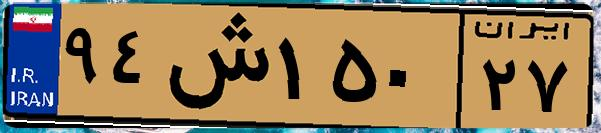0: (385, 28, 445, 110)
1: (270, 28, 330, 110)
2: (475, 38, 525, 113)
4: (110, 28, 158, 98)
5: (330, 28, 385, 110)
7: (525, 38, 570, 115)
9: (57, 26, 110, 100)
ش: (158, 12, 270, 120)
